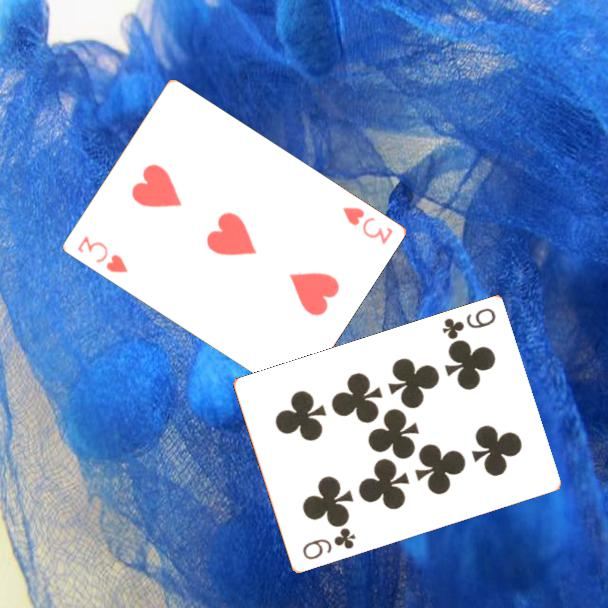c09: (438, 305, 498, 343), (299, 525, 358, 563)
h03: (338, 203, 396, 248), (73, 232, 131, 276)
